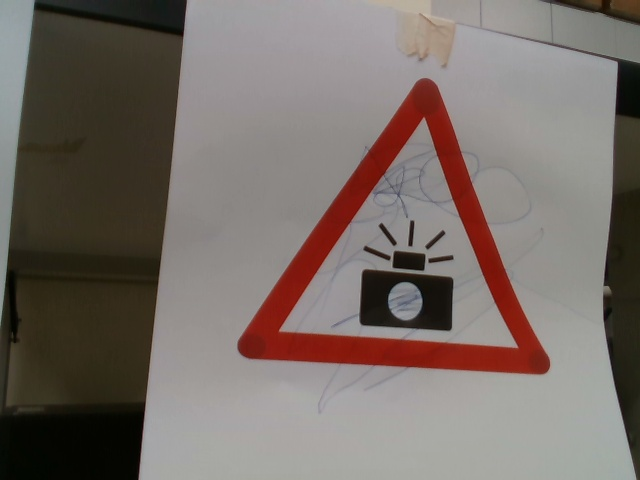camera: (236, 74, 556, 383)
